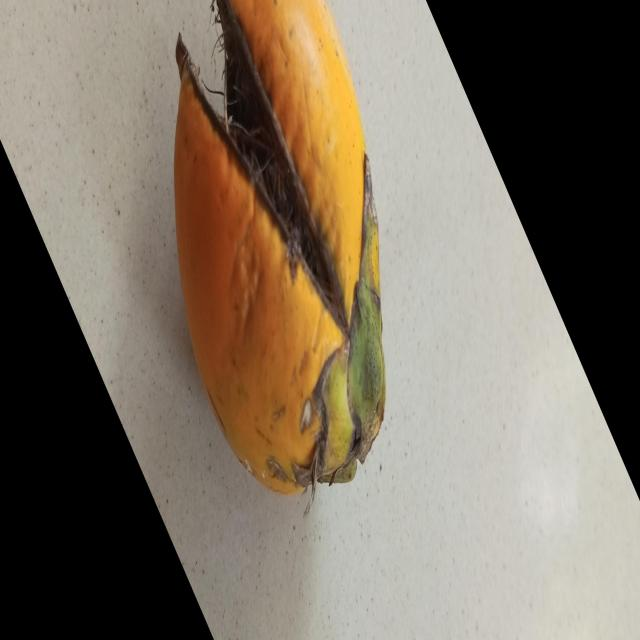damaged: (173, 0, 386, 498)
